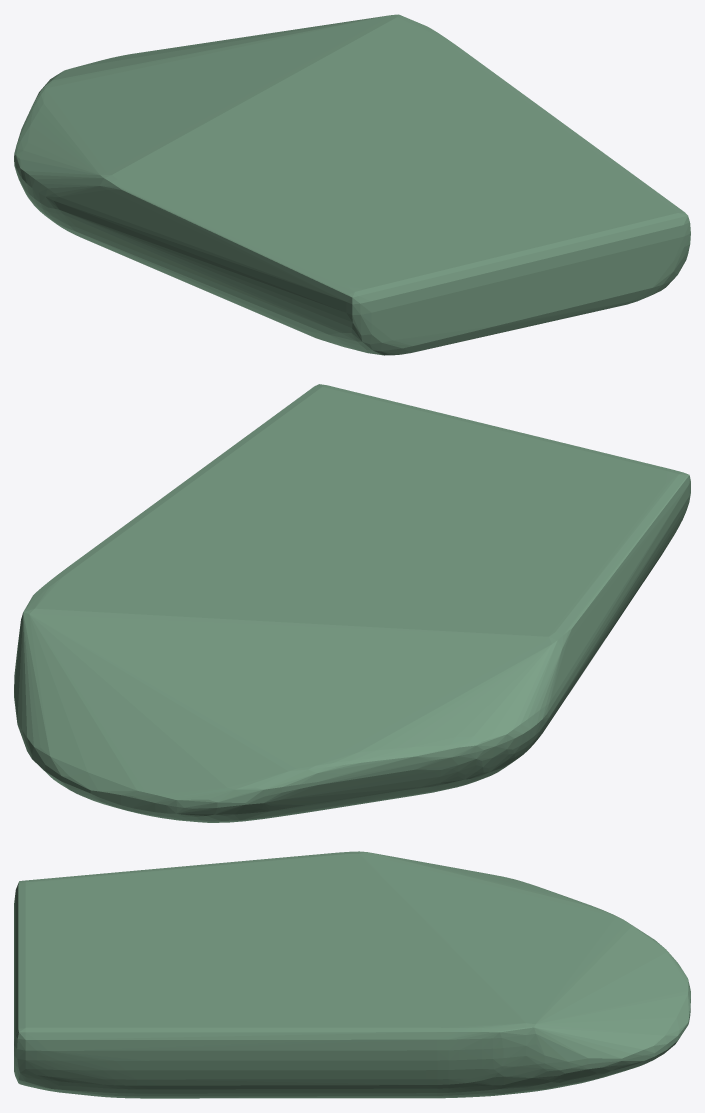
Rendered from right_hip_pitch_link_part_0.obj.
The picture shows the model from 3 angles, top to bottom: view 1: azimuth 30°, elevation 25°; view 2: azimuth 150°, elevation 25°; view 3: azimuth 270°, elevation 25°; orthographic projection. The views are drawn at different scales.
Size of the model in its own units: 0.0871 by 0.0179 by 0.1285.
